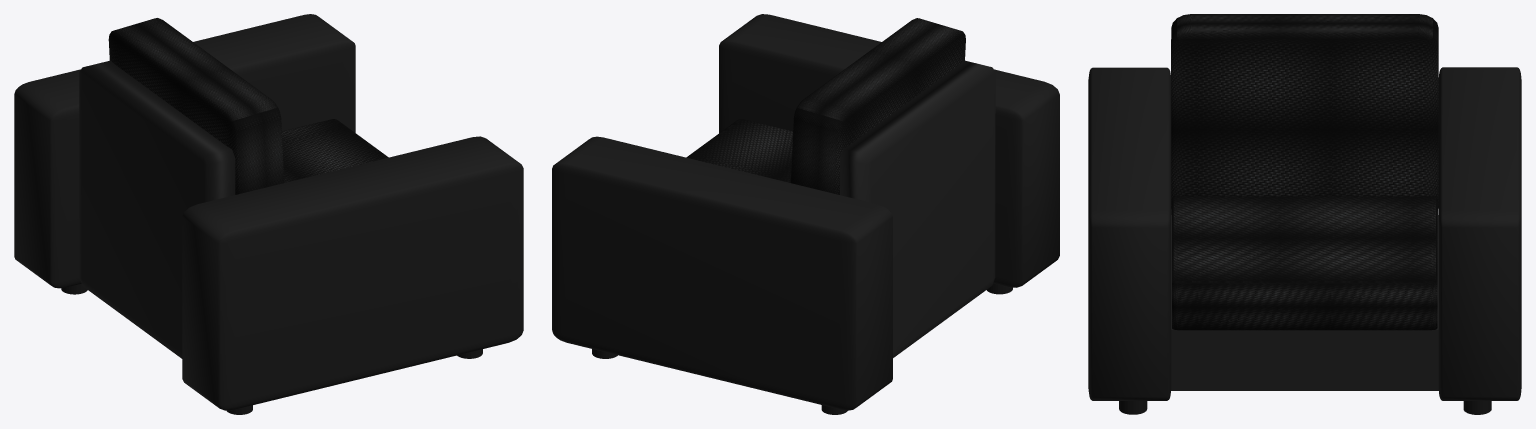
File: Chair.glb
3 renders of one model, left to right at view 1: azimuth 30°, elevation 25°; view 2: azimuth 150°, elevation 25°; view 3: azimuth 270°, elevation 25°, orthographic. The views are drawn at different scales.
Parts seen in each view (by area): view 1: Cube.002, Cube, Cube.001, Cube.005, Cube.004; view 2: Cube.001, Cube, Cube.002, Cube.005, Cube.004; view 3: Cube.005, Cube.004, Cube.001, Cube.002, Cube.003.
Boxes of the visible parts, x1,y1,x2,y2 form: Cube.002: (182, 136, 523, 410); Cube: (79, 60, 235, 358); Cube.001: (14, 14, 355, 288); Cube.005: (108, 18, 284, 194); Cube.004: (282, 119, 388, 182); Cube.001: (552, 136, 892, 410); Cube: (840, 60, 995, 357); Cube.002: (719, 14, 1059, 287); Cube.005: (790, 18, 965, 194); Cube.004: (686, 119, 792, 182); Cube.005: (1171, 14, 1438, 210); Cube.004: (1172, 196, 1437, 330); Cube.001: (1438, 67, 1521, 400); Cube.002: (1088, 67, 1171, 400); Cube.003: (1171, 215, 1438, 390).
Size of the model in its own units: 0.9815 by 0.8439 by 1.15.
Materials: 4 (1 with a texture image).
